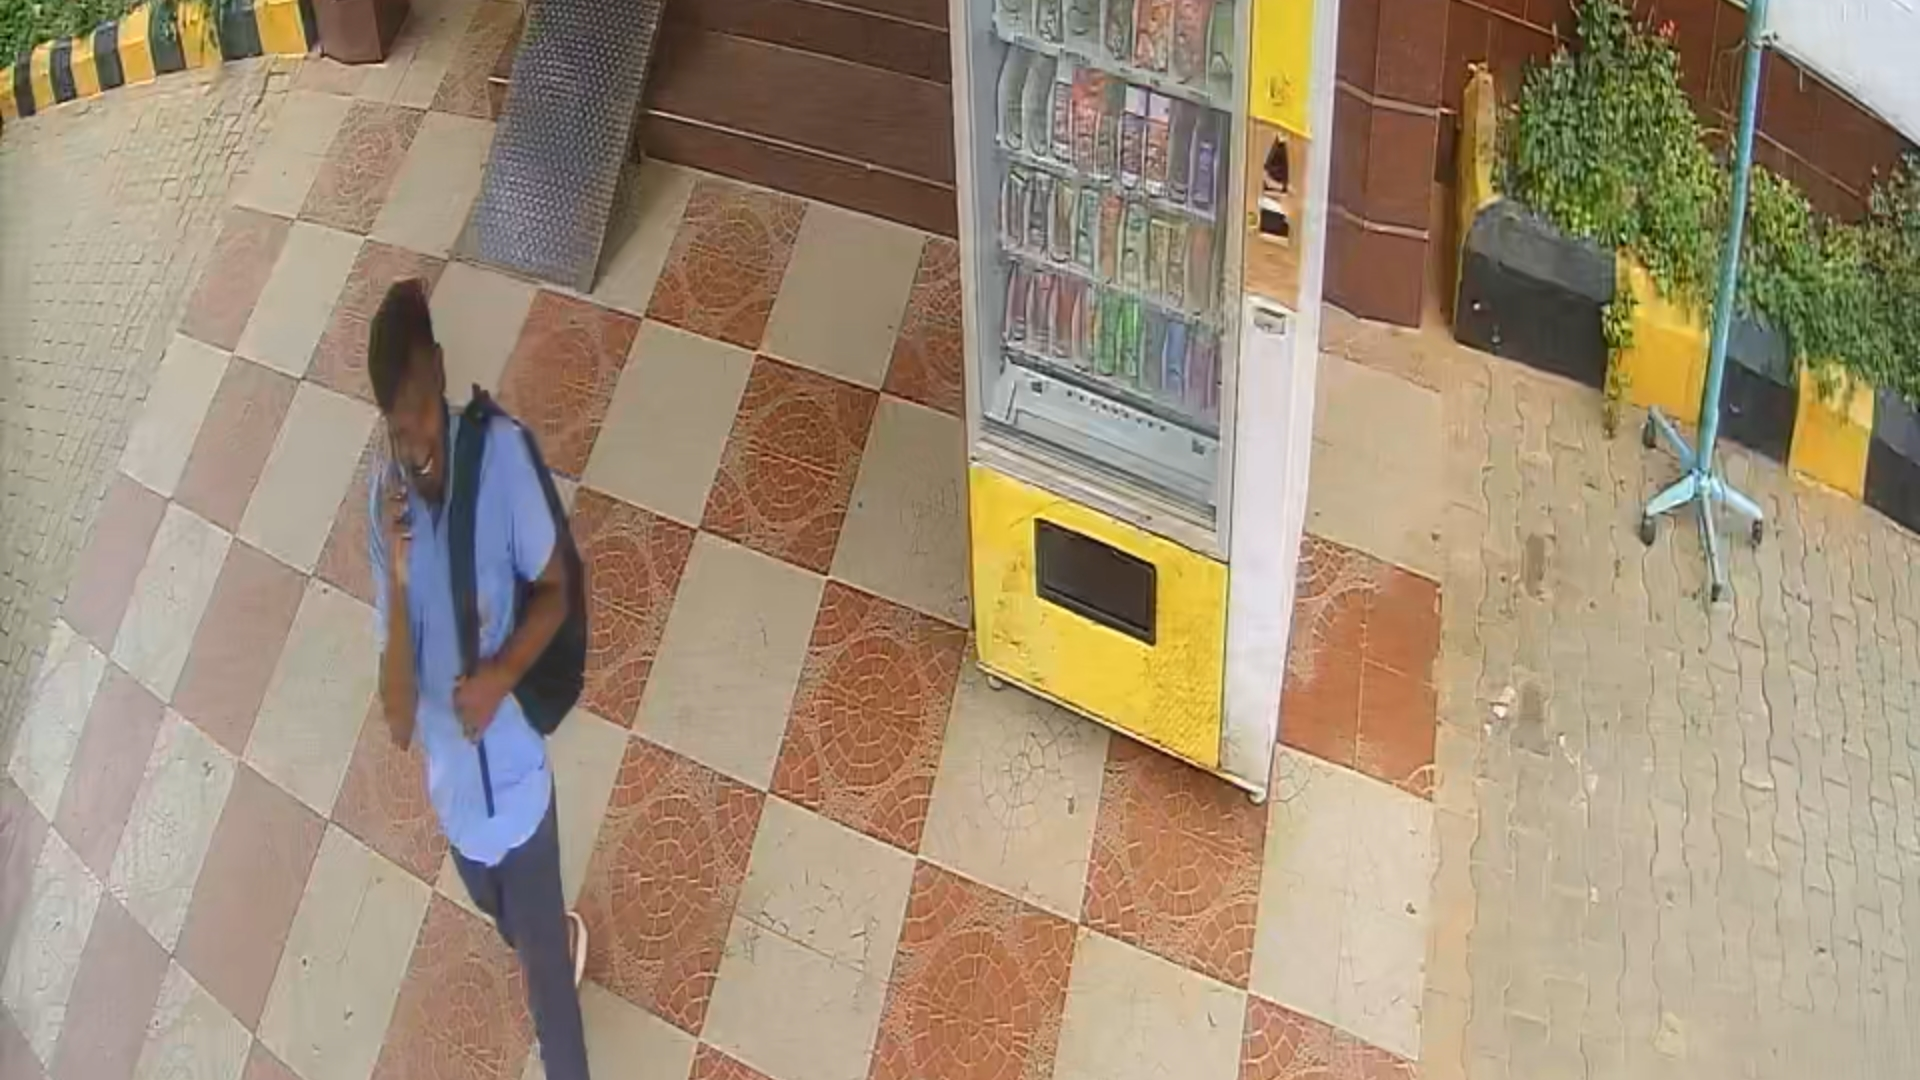intruder: (349, 262, 644, 1080)
